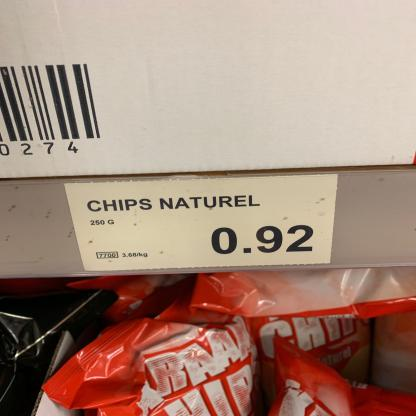prtg: (62, 175, 344, 274)
